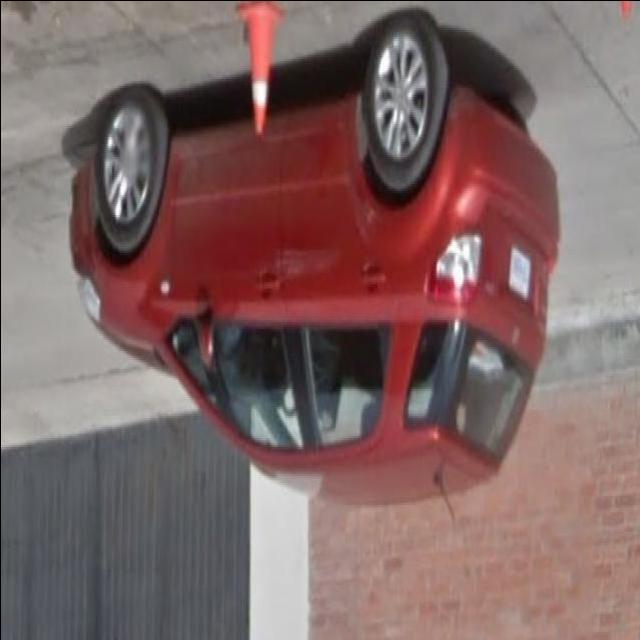car: (66, 8, 562, 510)
